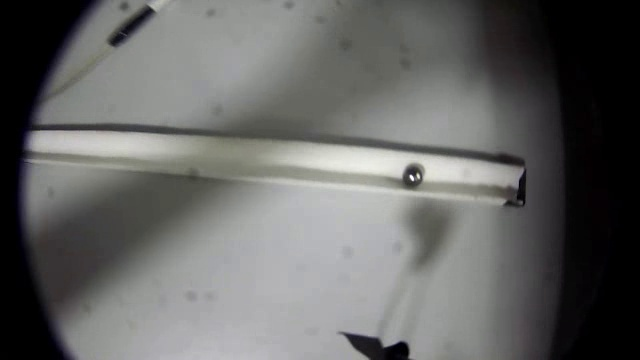gangzhu: (401, 164, 425, 189)
